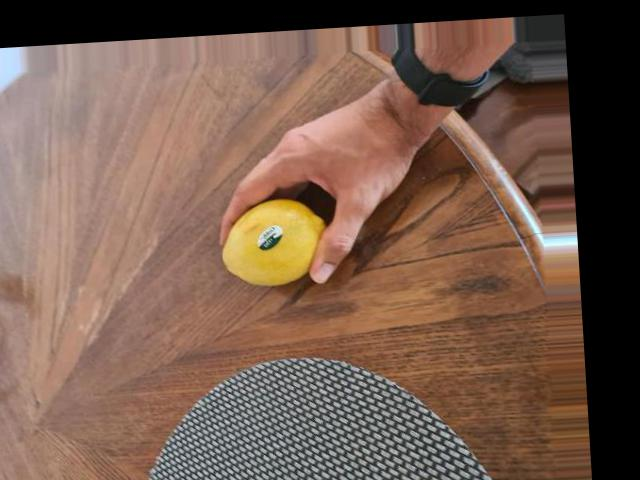lemon: (220, 196, 333, 286)
